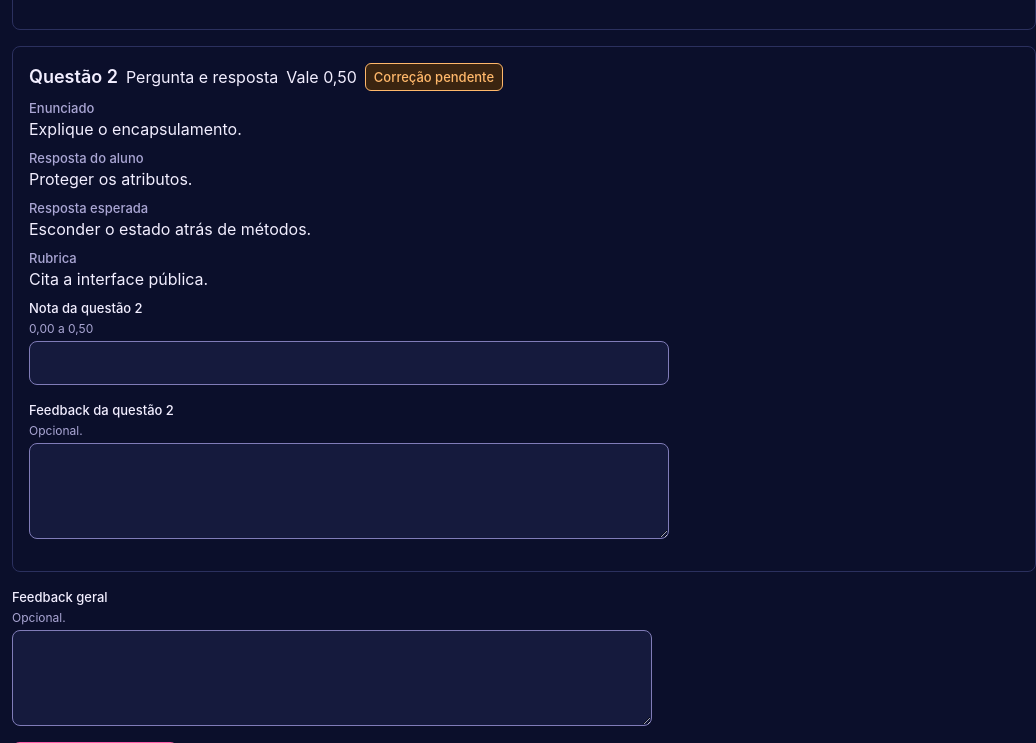
Test case: 012/US5 AttemptReview — respostas, gabarito, correção e aceite › 012/US5-2 salvar correção envia só a questão alterada e o feedback geral, na versão lida
(page scrolled)
In the field labelled "Nota da questão 2": (349, 363) [29,341,669,385], type "0,4"
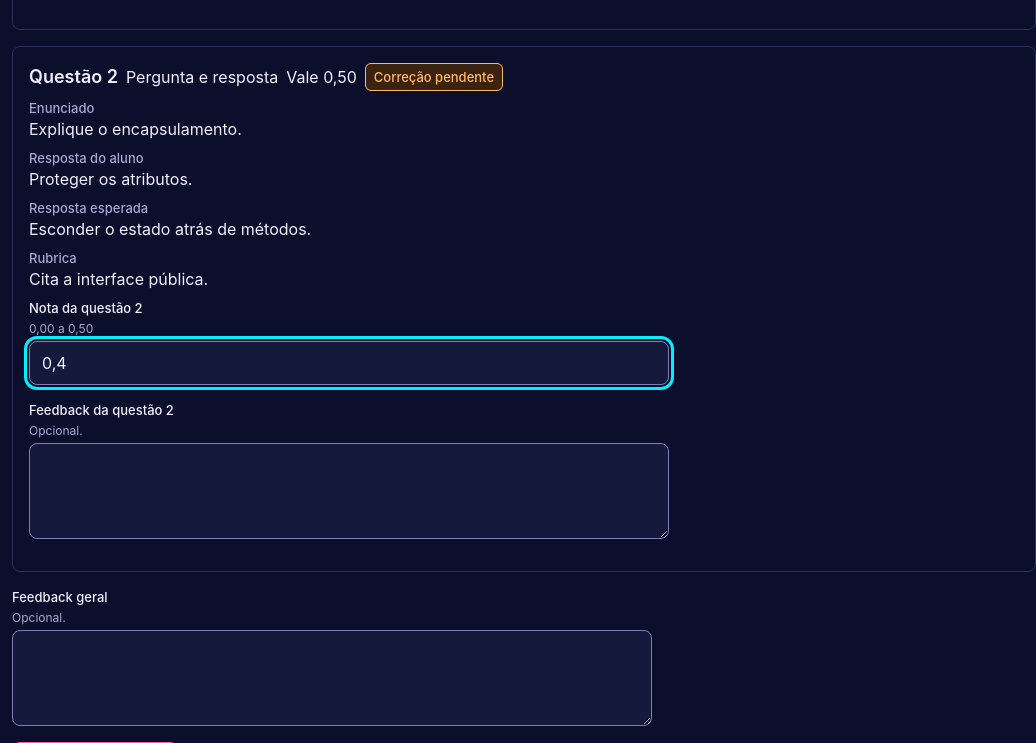
In the text box labelled "Feedback da questão 2": (349, 491) [29,443,669,539], type "Faltou a interface pública."
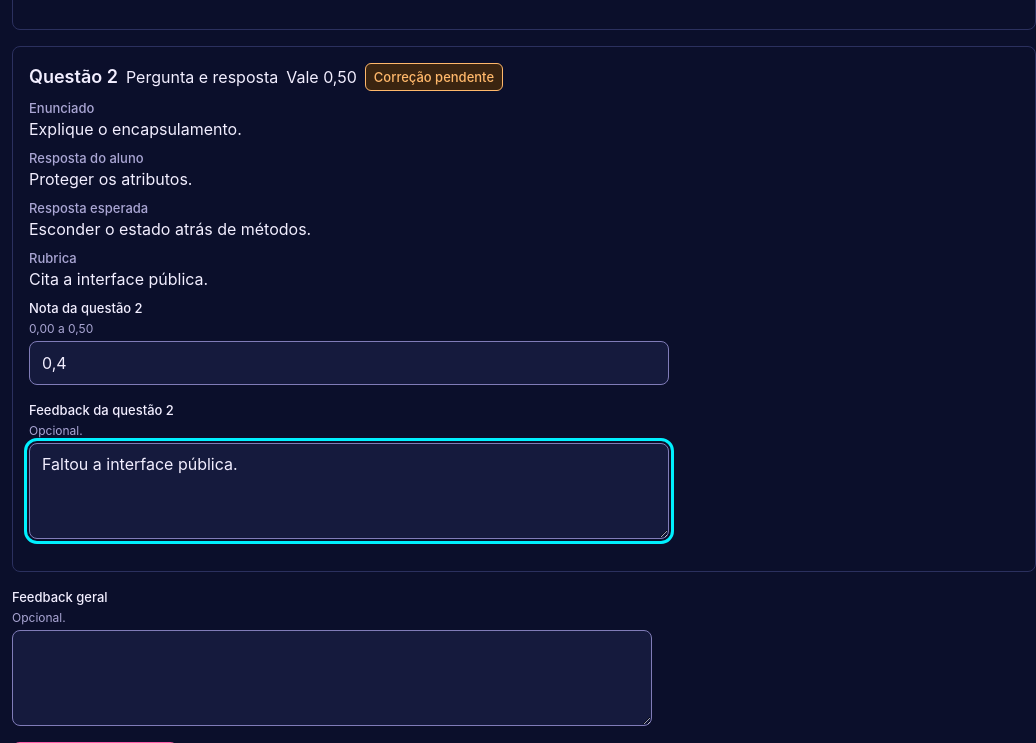
In the text box labelled "Feedback geral": (332, 678) [12,630,652,726], type "Muito bem."
(page scrolled)
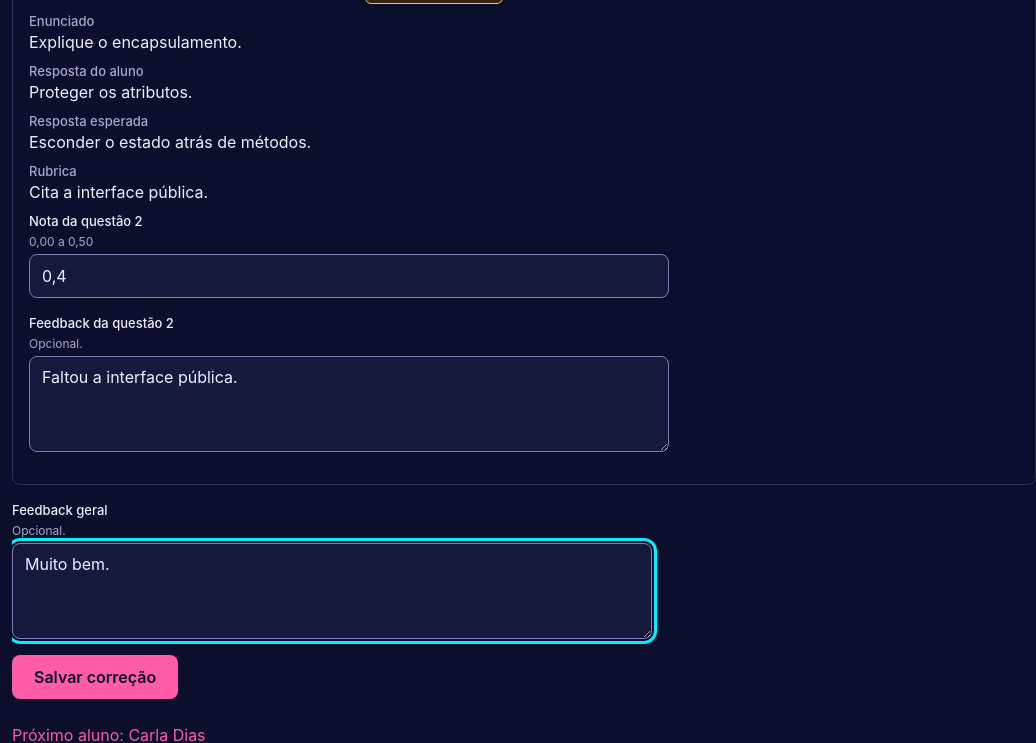
Click the button "Salvar correção": click(95, 677) [12,655,178,699]
(page scrolled)
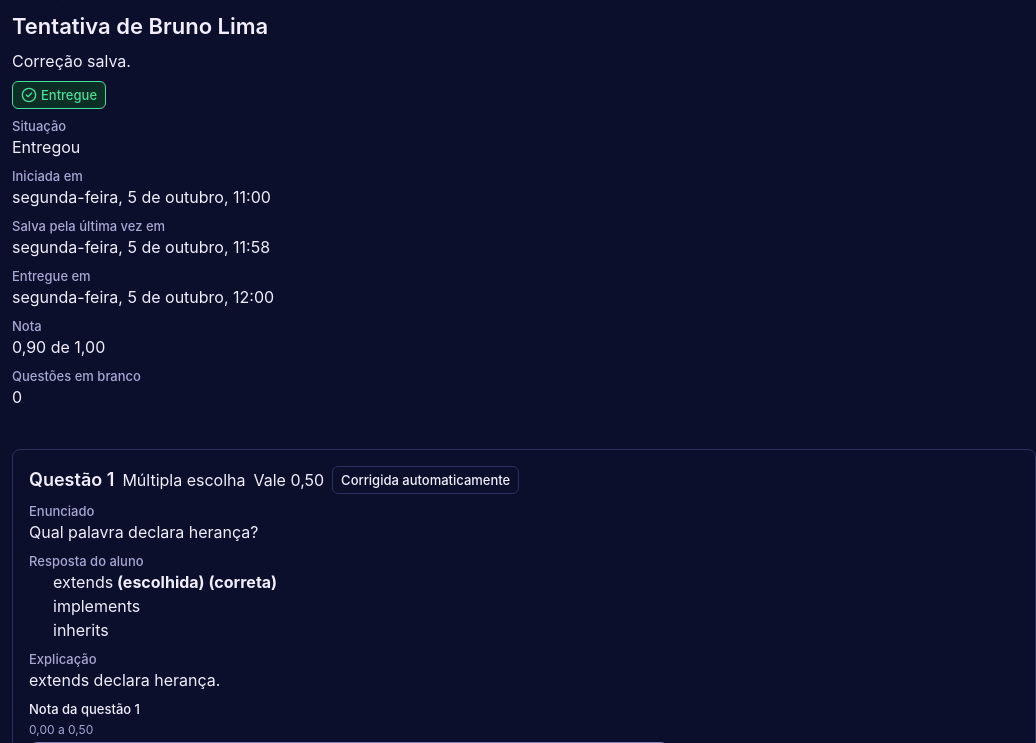
Now the text "Correção salva." is shown, box [12,51,131,71]
Now the text "0,90 de 1,00" is shown, box [12,337,105,357]
